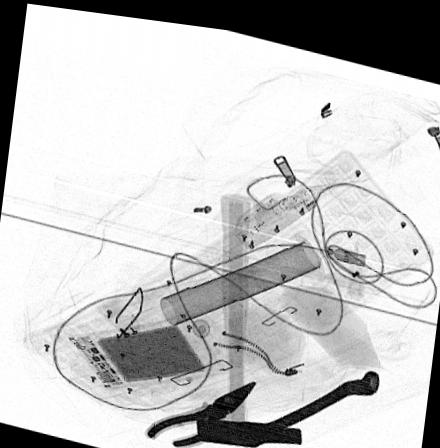Hammer: (195, 187, 299, 439)
Pliers: (142, 371, 256, 442)
Powerbank: (67, 312, 224, 388)
Wrench: (230, 358, 379, 440)
